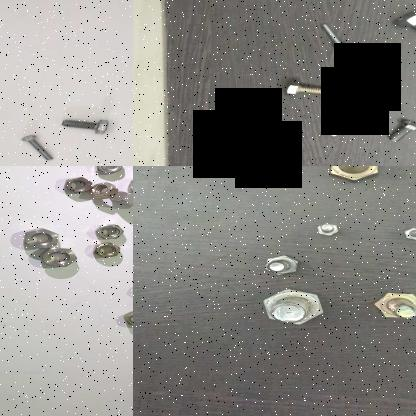Bolts: (256, 284, 328, 326), (362, 287, 416, 321), (19, 128, 57, 163), (276, 76, 336, 98), (52, 114, 116, 134), (319, 166, 388, 184), (324, 113, 366, 139), (258, 252, 302, 274), (391, 6, 416, 44), (320, 18, 346, 50), (382, 117, 416, 141), (305, 219, 348, 237), (393, 220, 416, 241)
NUTS: (37, 244, 80, 270), (22, 226, 62, 252), (58, 173, 94, 195), (84, 178, 120, 198), (90, 239, 122, 260), (91, 220, 126, 238), (111, 188, 133, 207), (91, 166, 125, 174), (119, 309, 133, 328)
